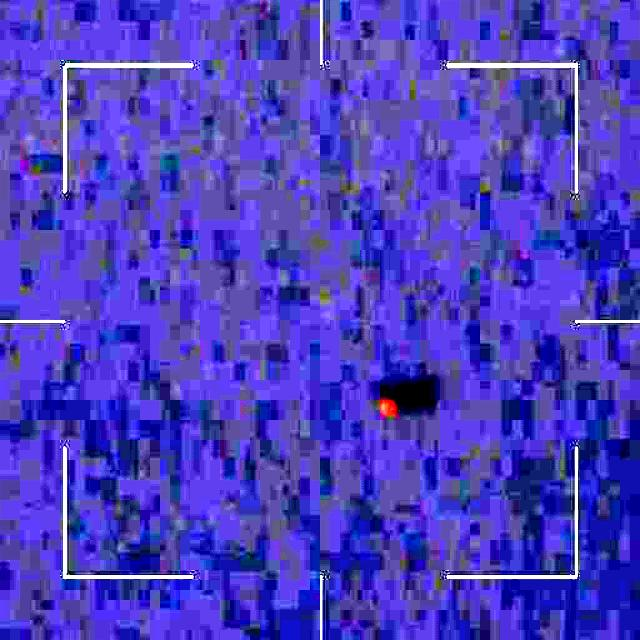bird: (374, 380, 408, 428)
